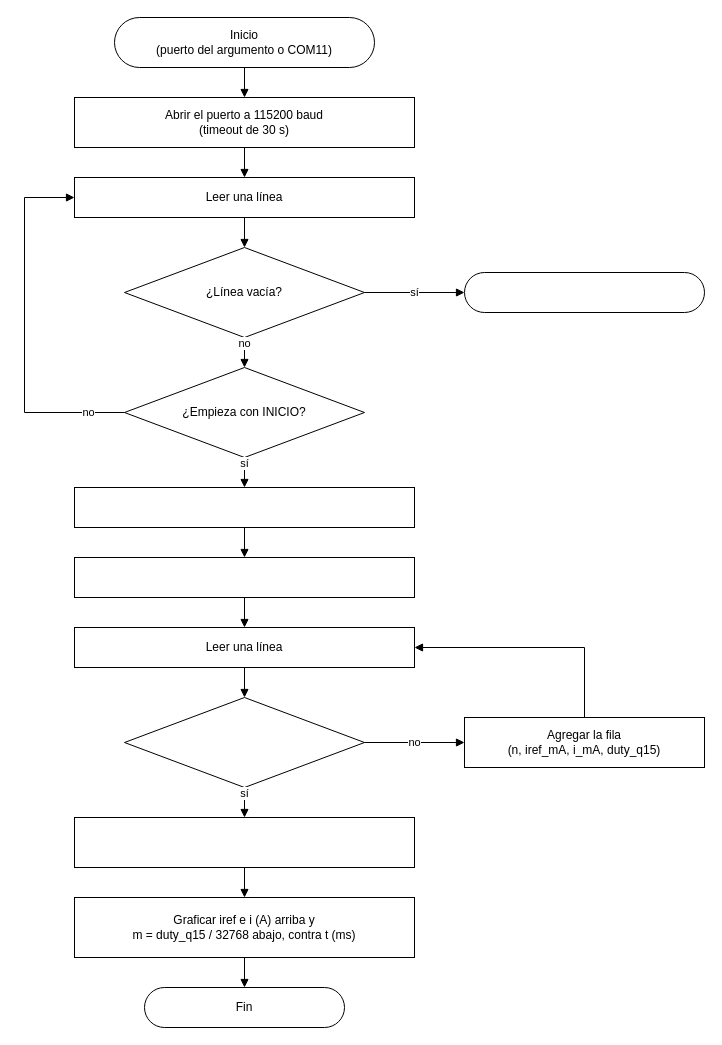
The diagram is 722 pixels wide and 1045 high, and some of its shapes have lost their labels. Each missing label, with the centre of its shape:
"Fin: no llegó nada en 30 s" goes at (x=584, y=292).
"Guardar muestras_AAAAMMDD_hhmmss.csv" goes at (x=244, y=842).
"Leer el encabezado" goes at (x=244, y=577).
"ts_us = Ts_us de la línea INICIO" goes at (x=244, y=507).
"¿FIN o línea vacía?" goes at (x=244, y=742).
